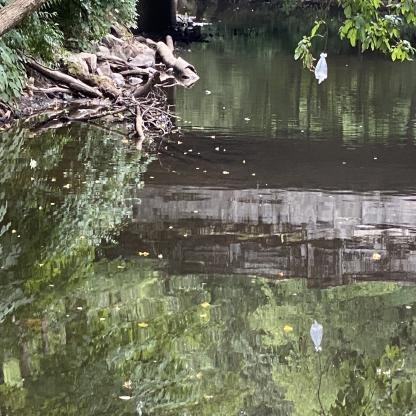trash: (307, 312, 325, 354)
